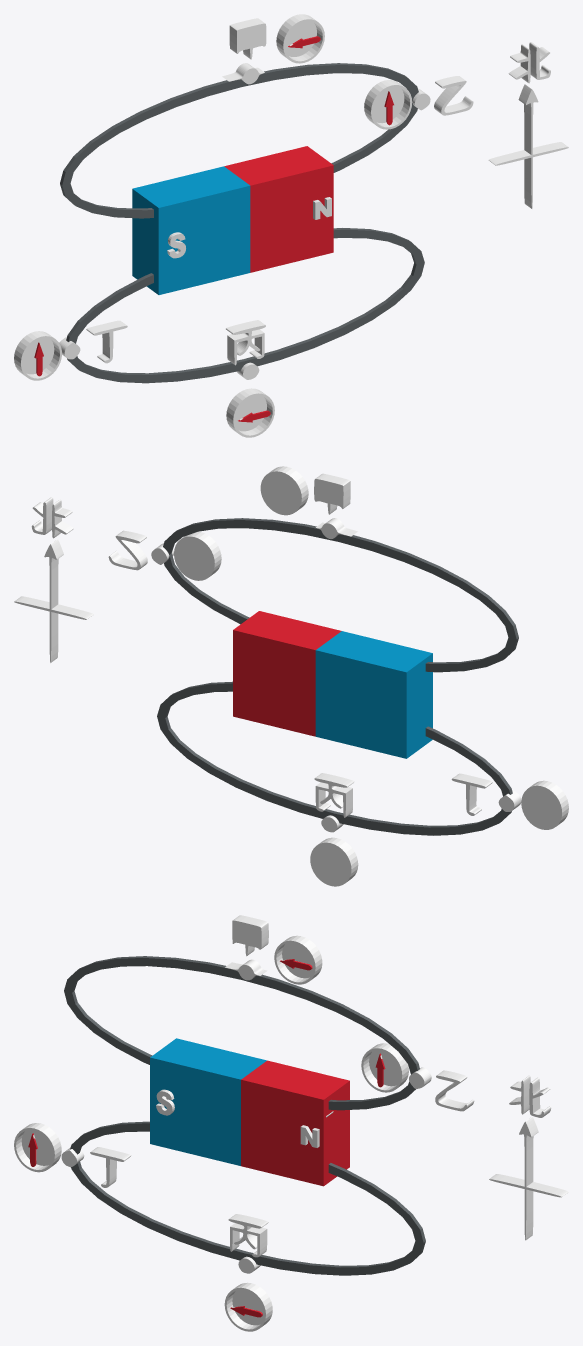
The model's file is tinker.obj.
The picture shows the model from 3 angles, top to bottom: view 1: azimuth 30°, elevation 25°; view 2: azimuth 150°, elevation 25°; view 3: azimuth 330°, elevation 25°; orthographic projection.
Visible parts, largest first — view 1: group_0_-1, group_0_-16736297, group_0_-10393750, group_0_-1499859, group_0_-328966; view 2: group_0_-1, group_0_-16736297, group_0_-10393750, group_0_-1499859; view 3: group_0_-1, group_0_-10393750, group_0_-1499859, group_0_-16736297, group_0_-328966.
Part boxes in pixels (<box>): group_0_-1: <box>14,14,568,437</box>; group_0_-16736297: <box>132,166,250,294</box>; group_0_-10393750: <box>60,63,424,383</box>; group_0_-1499859: <box>34,36,393,422</box>; group_0_-328966: <box>167,197,331,258</box>; group_0_-1: <box>14,466,568,886</box>; group_0_-16736297: <box>315,631,432,758</box>; group_0_-10393750: <box>157,518,518,835</box>; group_0_-1499859: <box>233,611,341,736</box>; group_0_-1: <box>14,915,568,1331</box>; group_0_-10393750: <box>64,956,425,1275</box>; group_0_-1499859: <box>28,959,385,1317</box>; group_0_-16736297: <box>150,1038,266,1165</box>; group_0_-328966: <box>156,1089,319,1147</box>.
Size of the model in its own units: 132 by 93.87 by 12.
